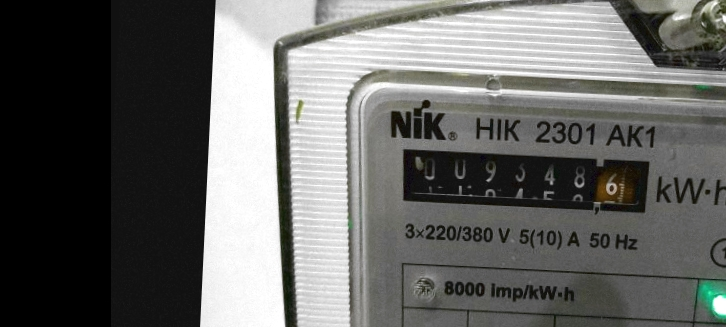0: (421, 155, 438, 181), (452, 153, 467, 180)
3: (513, 157, 528, 183)
4: (540, 156, 559, 187)
6: (602, 167, 621, 197)
8: (572, 161, 588, 189)
9: (483, 157, 498, 185)
screen: (382, 133, 664, 224)
